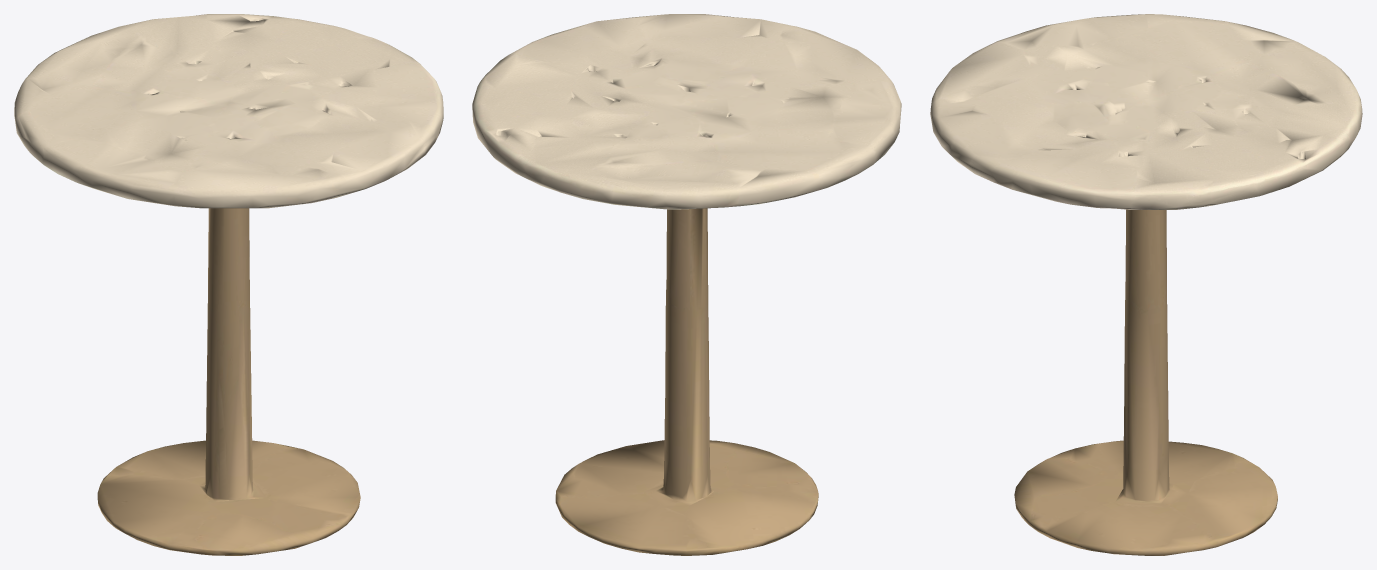
Rendered from cafetable_lod1.glb.
The picture shows the model from 3 angles, left to right: view 1: azimuth 30°, elevation 25°; view 2: azimuth 150°, elevation 25°; view 3: azimuth 270°, elevation 25°; orthographic projection.
Visible parts, largest first — view 1: tripo_node_3c3d4659-8a66-43ce-8b4d-4d35e86db970; view 2: tripo_node_3c3d4659-8a66-43ce-8b4d-4d35e86db970; view 3: tripo_node_3c3d4659-8a66-43ce-8b4d-4d35e86db970.
Part boxes in pixels (box(x1,y1,x2,y2)): tripo_node_3c3d4659-8a66-43ce-8b4d-4d35e86db970: box(14, 14, 443, 555); tripo_node_3c3d4659-8a66-43ce-8b4d-4d35e86db970: box(472, 14, 901, 555); tripo_node_3c3d4659-8a66-43ce-8b4d-4d35e86db970: box(930, 14, 1362, 555).
Bounding box in the file's own units: 0.6354 × 0.6497 × 0.6352.
1 material, 1 textured.
